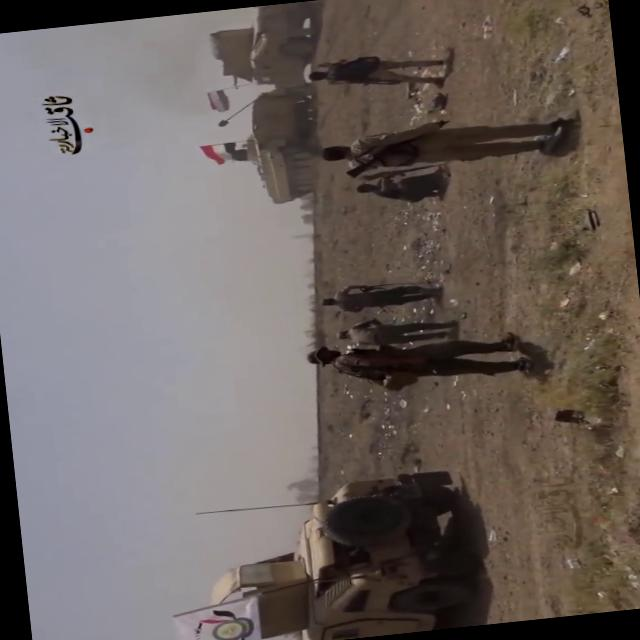long weapon: (360, 160, 434, 182)
